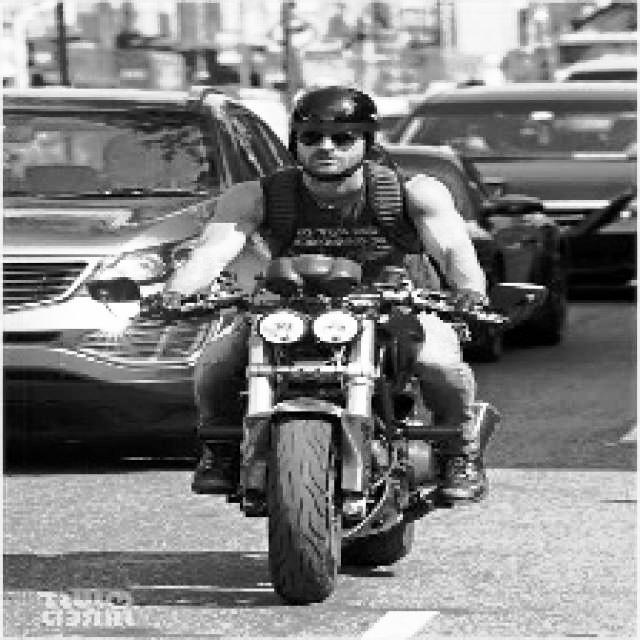Bike: (195, 265, 449, 606)
